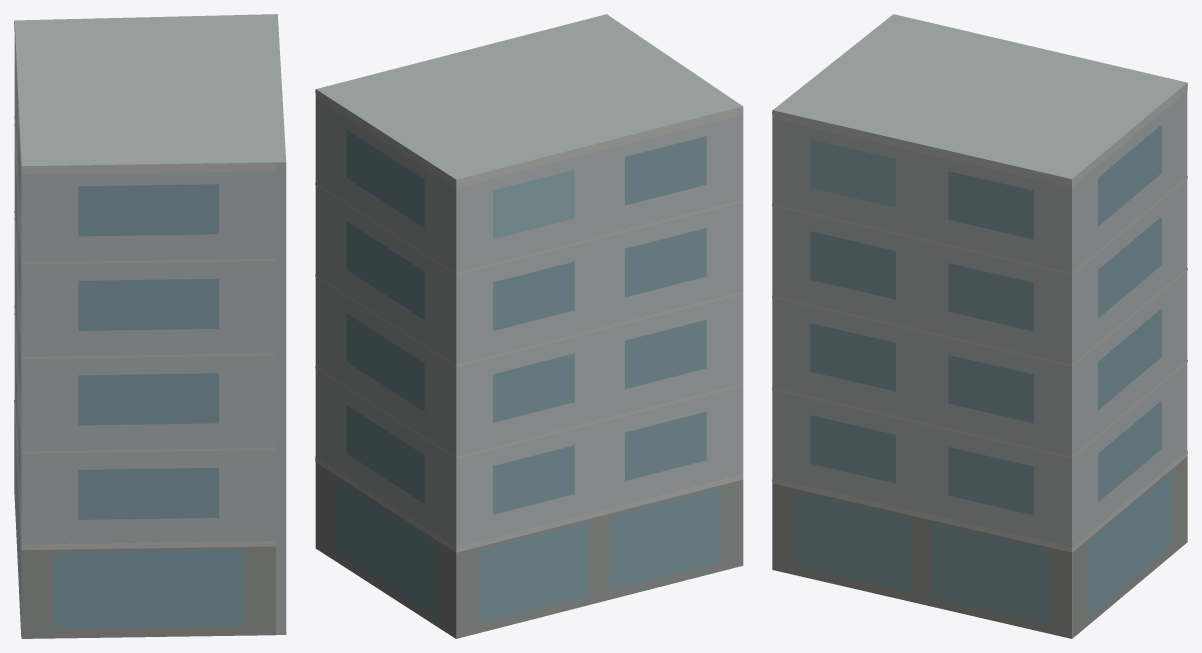
The model's file is survey-upis-32727168.glb.
3 renders of one model, left to right at view 1: azimuth 30°, elevation 25°; view 2: azimuth 150°, elevation 25°; view 3: azimuth 270°, elevation 25°, orthographic. The views are drawn at different scales.
Parts seen in each view (by area): view 1: survey-upis-32727168.tmp; view 2: survey-upis-32727168.tmp; view 3: survey-upis-32727168.tmp.
Part boxes in pixels (x1=…): survey-upis-32727168.tmp: x1=14, y1=14, x2=286, y2=638; survey-upis-32727168.tmp: x1=315, y1=14, x2=743, y2=638; survey-upis-32727168.tmp: x1=772, y1=14, x2=1187, y2=638.
Size of the model in its own units: 10.2 by 13.2 by 10.82.
